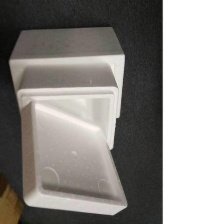foam_box: (17, 95, 131, 219), (5, 23, 128, 122), (13, 60, 121, 156)
